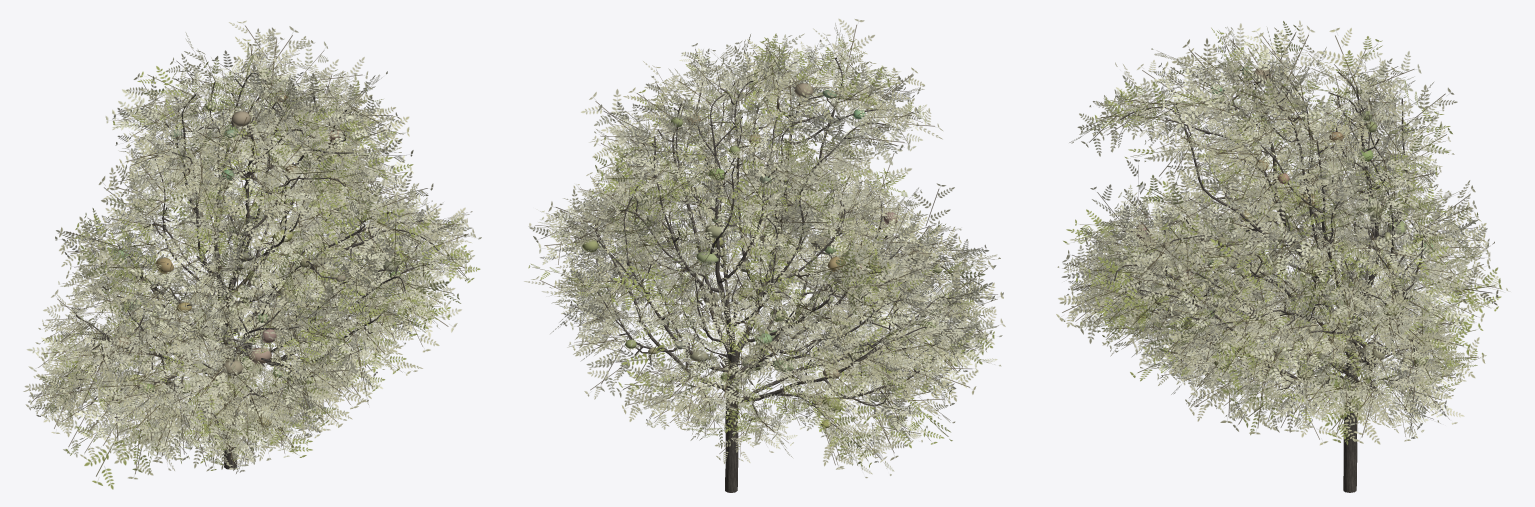
The model's file is tree_30_broadleaf.glb.
3 views of the same model, side by side, from view 1: azimuth 30°, elevation 25°; view 2: azimuth 150°, elevation 25°; view 3: azimuth 270°, elevation 25° (orthographic). The views are drawn at different scales.
Parts seen in each view (by area): view 1: tree_30_broadleaf.leaves, tree_30_broadleaf.trunk_branches, tree_30_broadleaf.foliage_volume; view 2: tree_30_broadleaf.leaves, tree_30_broadleaf.trunk_branches, tree_30_broadleaf.foliage_volume; view 3: tree_30_broadleaf.leaves, tree_30_broadleaf.trunk_branches, tree_30_broadleaf.foliage_volume.
Boxes of the visible parts, x1,y1,x2,y2 form: tree_30_broadleaf.leaves: (23,20,481,489); tree_30_broadleaf.trunk_branches: (75,73,438,469); tree_30_broadleaf.foliage_volume: (88,68,400,426); tree_30_broadleaf.leaves: (524,18,1005,478); tree_30_broadleaf.trunk_branches: (577,57,950,492); tree_30_broadleaf.foliage_volume: (582,83,942,428); tree_30_broadleaf.leaves: (1056,20,1510,445); tree_30_broadleaf.trunk_branches: (1114,69,1450,492); tree_30_broadleaf.foliage_volume: (1133,66,1437,387).
Bounding box in the file's own units: 11.5 × 11.39 × 10.53.
3 materials, 2 textured.
